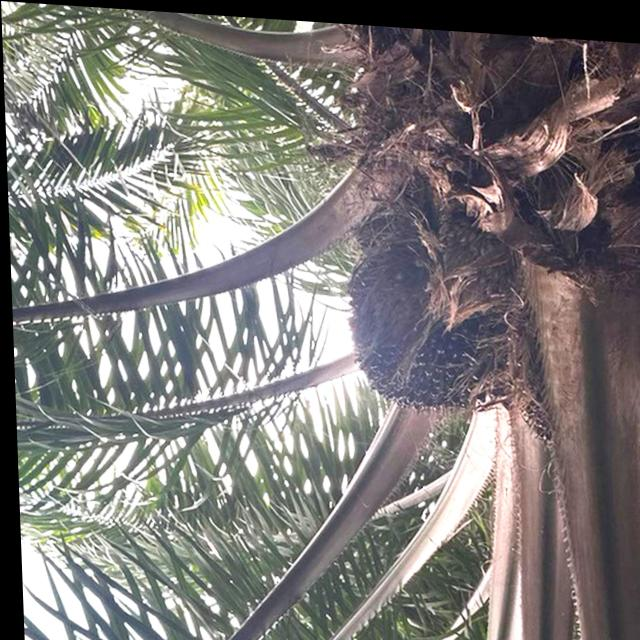unripe: (340, 231, 507, 412)
